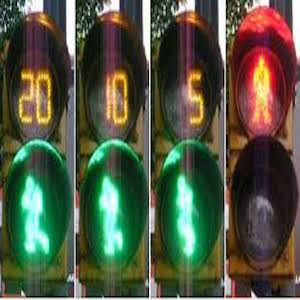green: (88, 173, 133, 269), (15, 174, 59, 260), (163, 174, 201, 263)
red: (245, 52, 279, 130)
